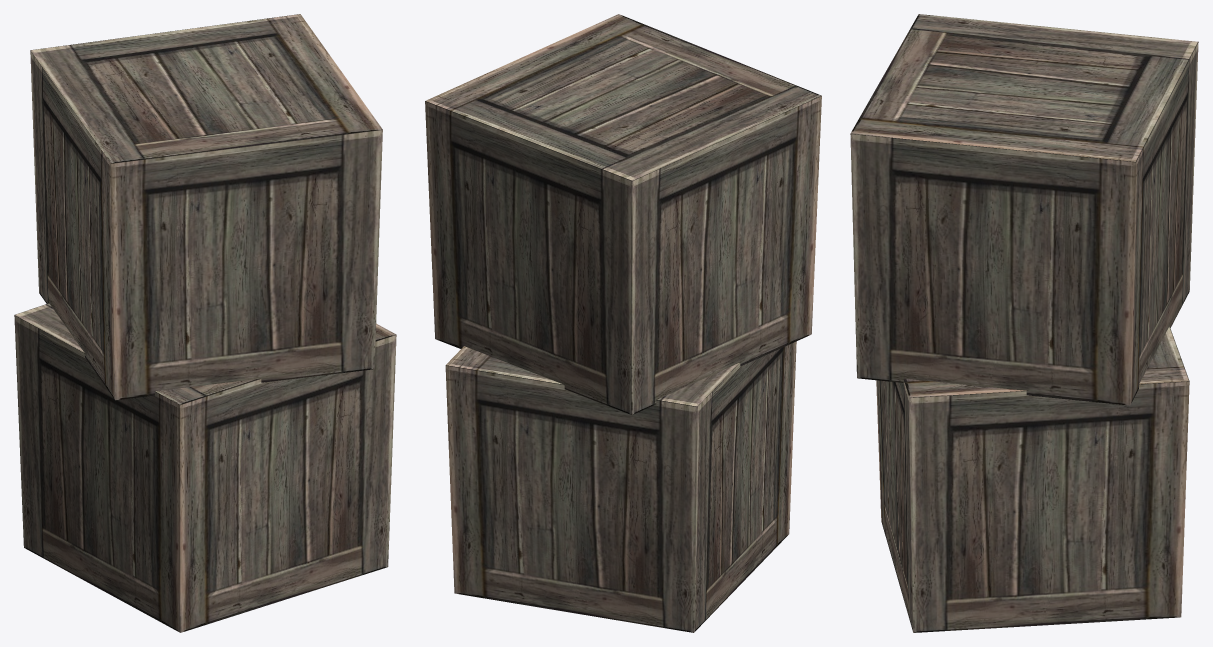
File: crates_group_2.fbx
The picture shows the model from 3 angles, left to right: view 1: azimuth 30°, elevation 25°; view 2: azimuth 150°, elevation 25°; view 3: azimuth 270°, elevation 25°; orthographic projection. The views are drawn at different scales.
Parts seen in each view (by area): view 1: crate_sides, crate_sides.001, crate_top.001, crate_top; view 2: crate_sides.001, crate_sides, crate_top.001, crate_top; view 3: crate_sides.001, crate_sides, crate_top.001, crate_top.
Boxes of the visible parts, x1,y1,x2,y2 form: crate_sides: (14, 315, 396, 632); crate_sides.001: (30, 50, 382, 400); crate_top.001: (30, 14, 382, 163); crate_top: (15, 303, 395, 404); crate_sides.001: (425, 96, 821, 414); crate_sides: (445, 341, 796, 632); crate_top.001: (425, 14, 821, 180); crate_top: (446, 346, 739, 406); crate_sides.001: (850, 42, 1198, 405); crate_sides: (876, 379, 1189, 632); crate_top.001: (850, 14, 1198, 161); crate_top: (904, 326, 1189, 397).
Bounding box in the file's own units: 408 × 619 × 406.
Materials: 1 (1 with a texture image).
